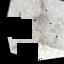Morning glory: (30, 42, 64, 62)
